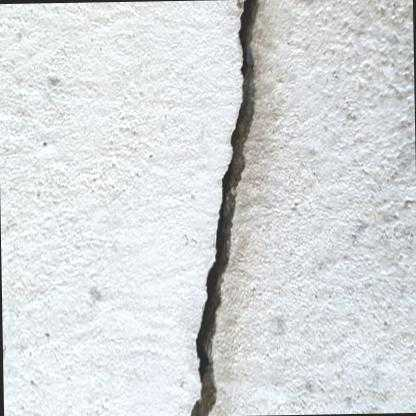crack: (189, 0, 259, 416)
